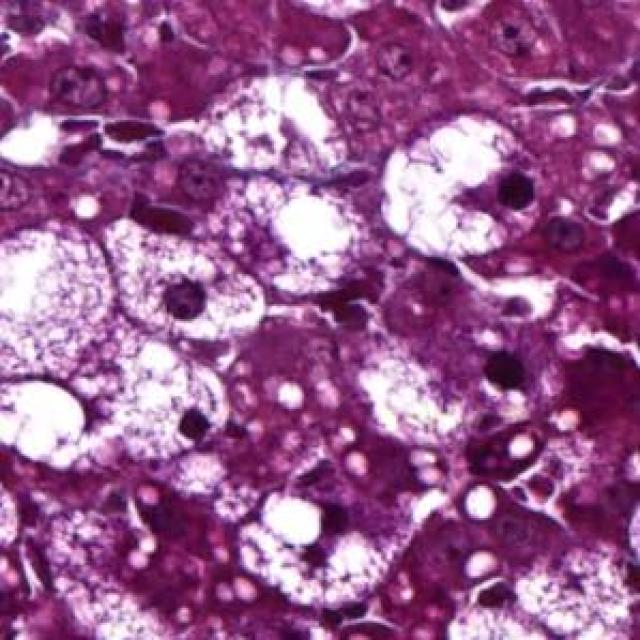ballooning: (377, 109, 552, 263), (98, 214, 272, 351), (231, 488, 396, 612)
